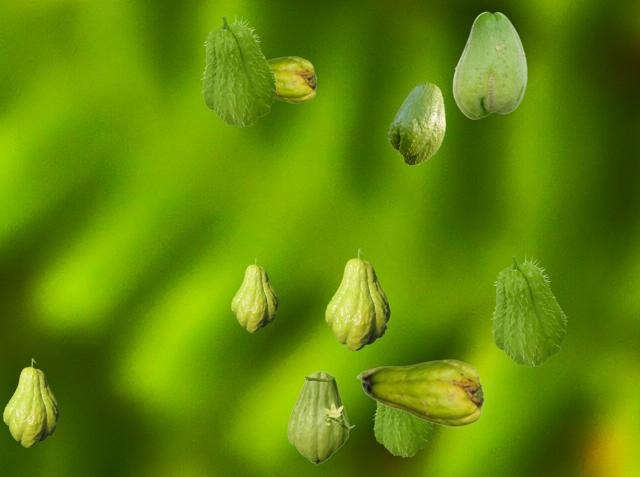sayote: (490, 254, 567, 366), (200, 14, 277, 126), (356, 359, 482, 426), (452, 11, 526, 118), (325, 248, 389, 350), (287, 371, 354, 464), (3, 358, 58, 446), (387, 82, 445, 165), (231, 257, 277, 331), (372, 403, 433, 456), (266, 56, 315, 102)
